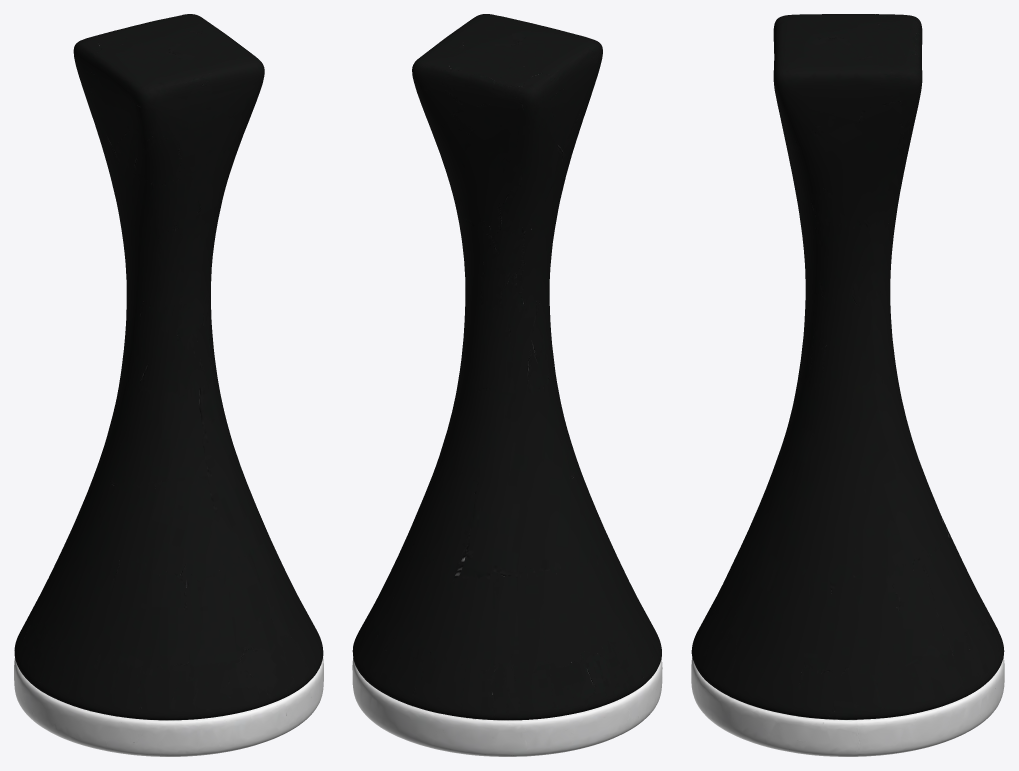
Rendered from queen-black-hd.glb.
3 views of the same model, side by side, from view 1: azimuth 30°, elevation 25°; view 2: azimuth 150°, elevation 25°; view 3: azimuth 270°, elevation 25° (orthographic).
Size of the model in its own units: 0.6277 by 1.45 by 0.6279.
Materials: 1 (1 with a texture image).
